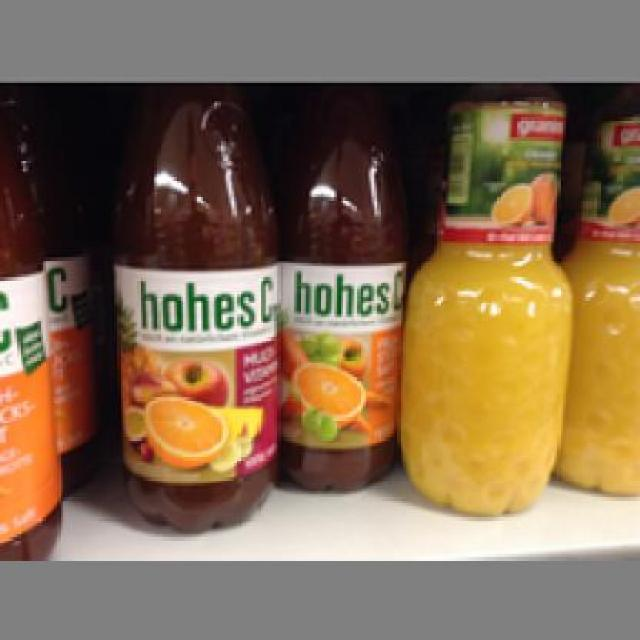Juice: (394, 82, 572, 512), (108, 79, 272, 532), (268, 82, 406, 492)
